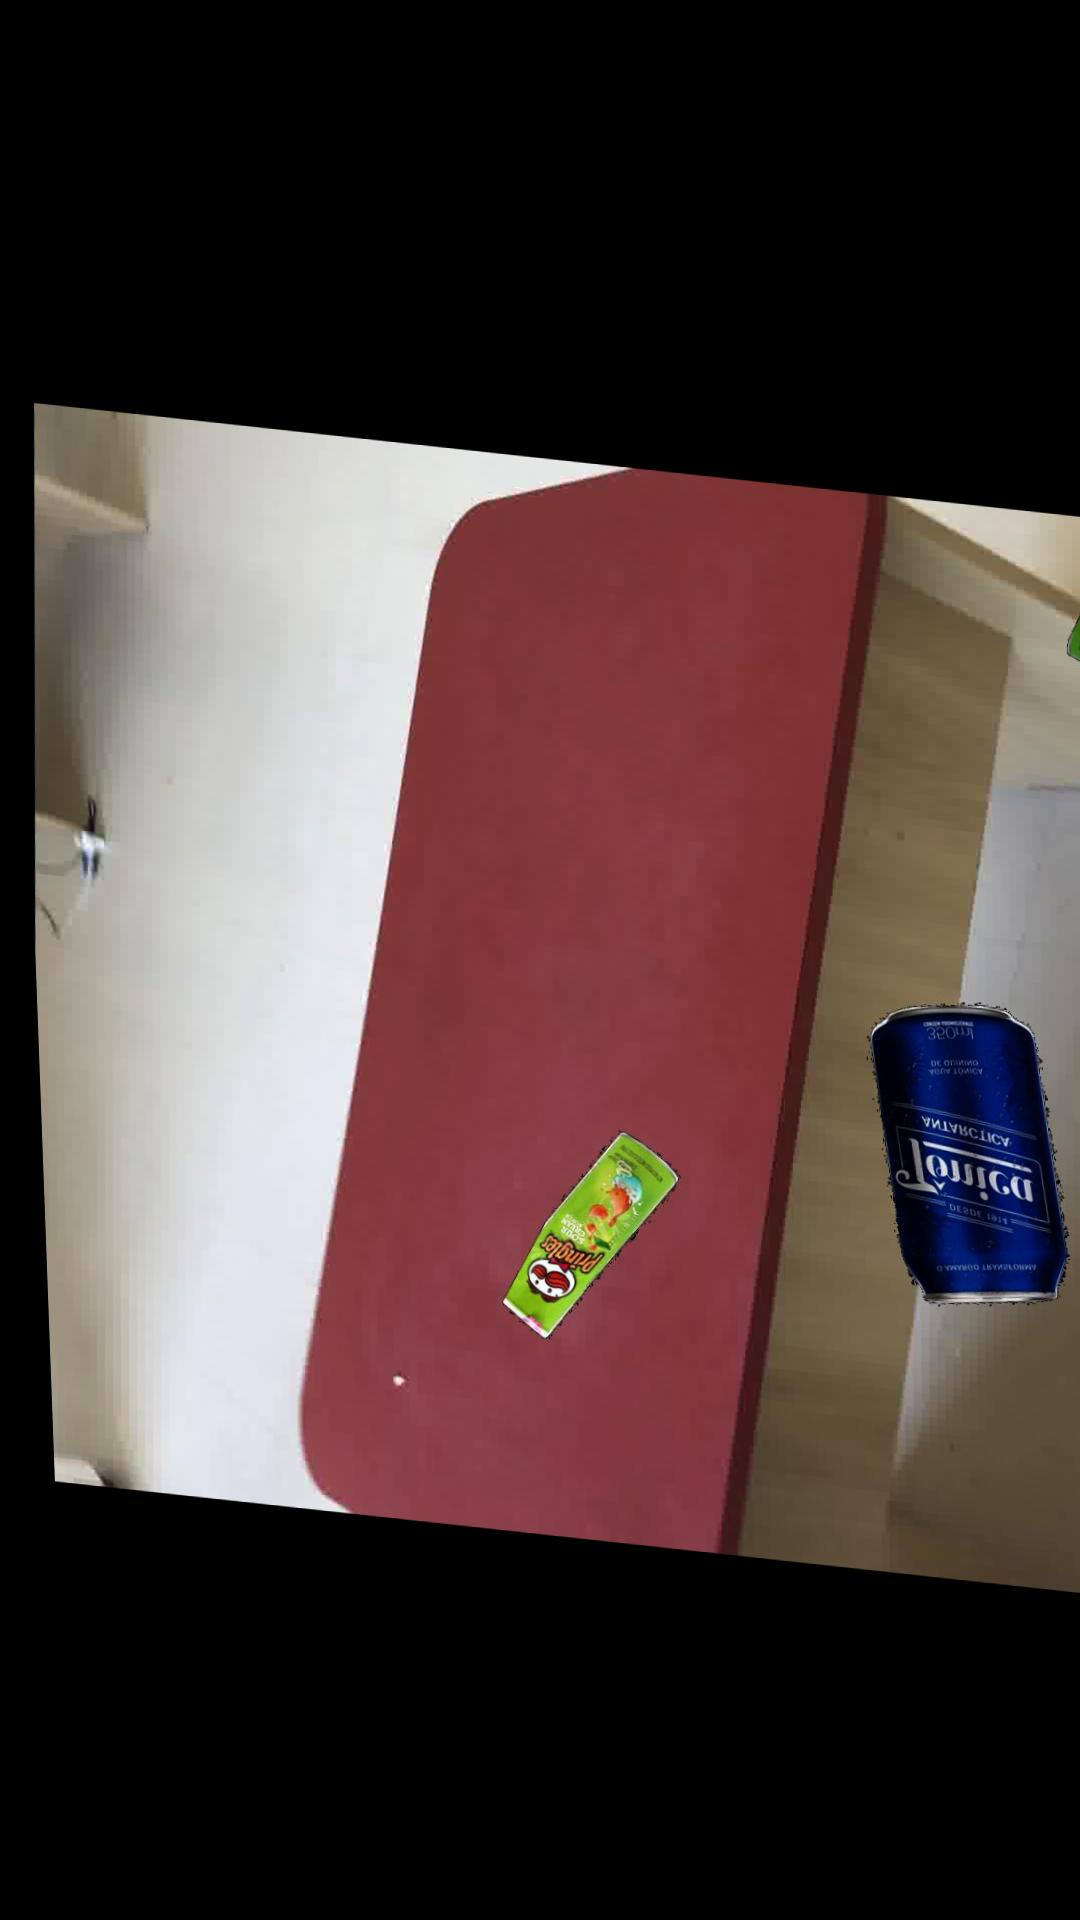pringles: (489, 1124, 667, 1332), (1060, 588, 1080, 650)
tonic: (858, 990, 1058, 1291)
